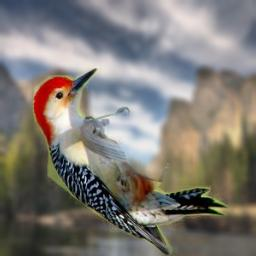Woodpecker: (33, 68, 228, 256)
